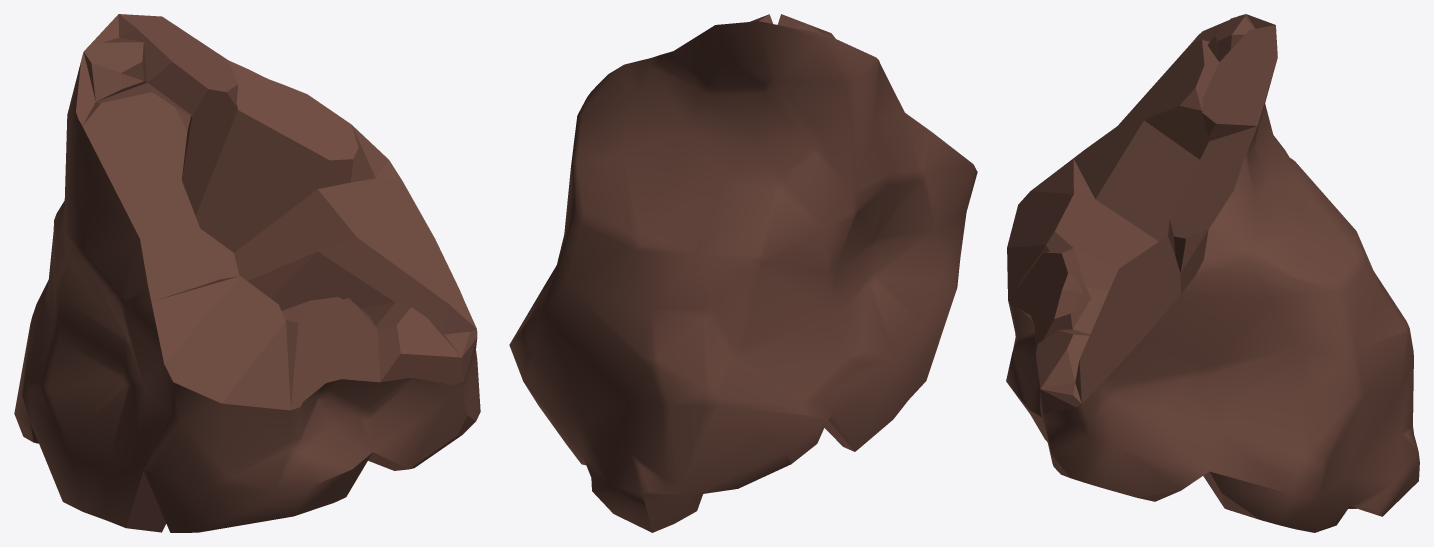
Rendered from p_mesh_hvs_stalagmite_large_destruction_part08.fbx.
The picture shows the model from 3 angles, left to right: view 1: azimuth 30°, elevation 25°; view 2: azimuth 150°, elevation 25°; view 3: azimuth 270°, elevation 25°; orthographic projection. The views are drawn at different scales.
Parts seen in each view (by area): view 1: p_large_part8; view 2: p_large_part8; view 3: p_large_part8.
Part boxes in pixels (<box>): p_large_part8: <box>14,14,480,532</box>; p_large_part8: <box>509,14,977,532</box>; p_large_part8: <box>1006,14,1419,532</box>.
Size of the model in its own units: 5.92 by 7.74 by 6.44.
